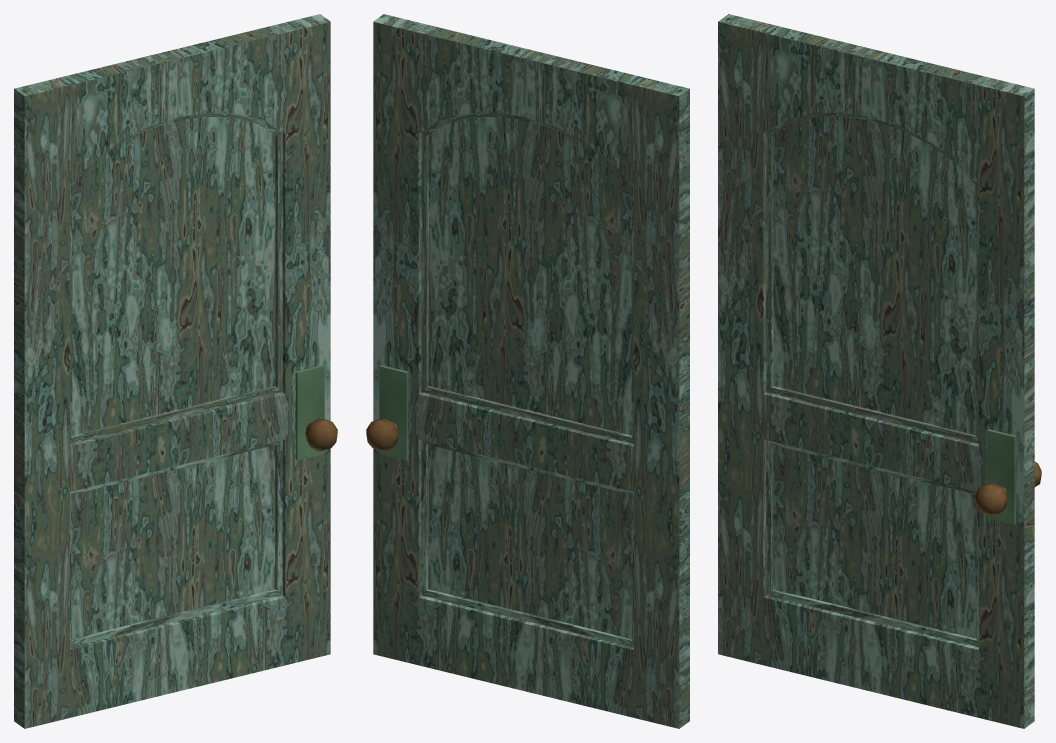
Rendered from Door_Wooden.FBX.
3 renders of one model, left to right at view 1: azimuth 30°, elevation 25°; view 2: azimuth 150°, elevation 25°; view 3: azimuth 330°, elevation 25°, orthographic.
Parts seen in each view (by area): view 1: Plane022; view 2: Plane022; view 3: Plane022.
Part boxes in pixels (x1,y1,x2,y2): Plane022: (14,14,337,728); Plane022: (366,14,689,728); Plane022: (718,14,1041,728).
Bounding box in the file's own units: 142 × 280 × 40.48.
